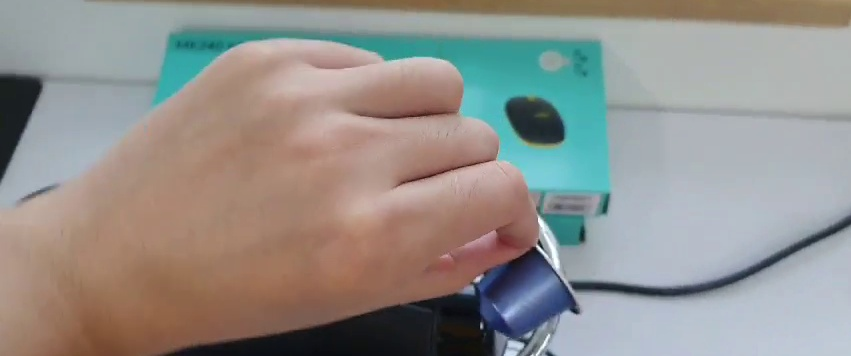capsule_7: (468, 231, 582, 342)
